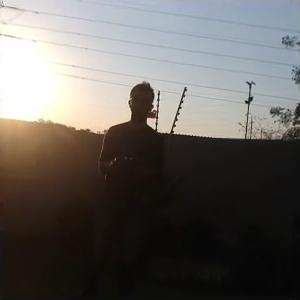follow: (94, 76, 167, 298)
